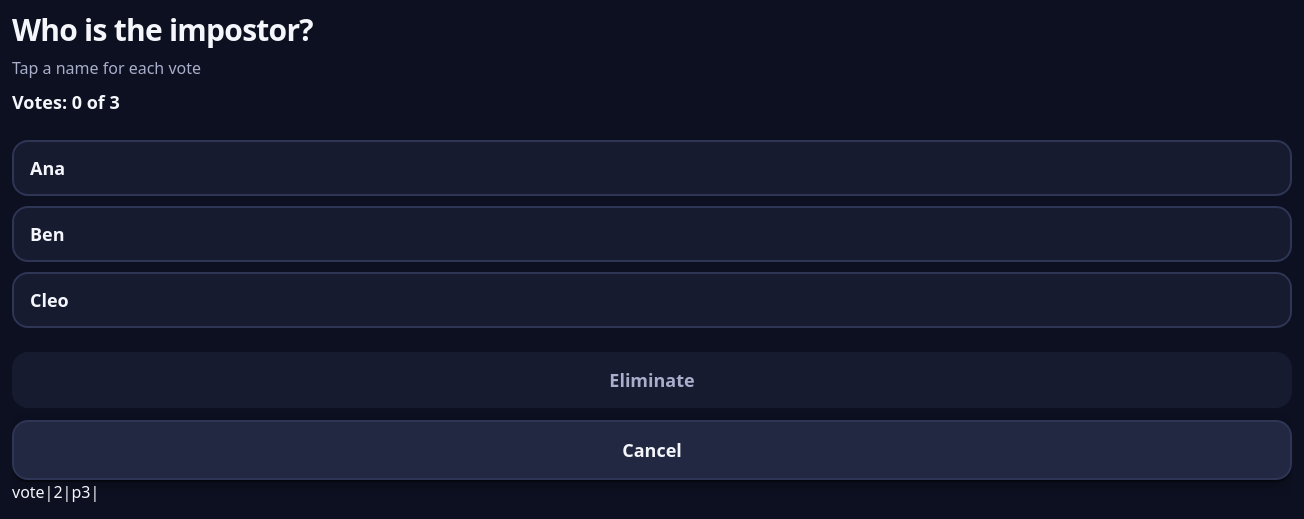
Test case: VoteScreen tally › eliminates the strict leader
Click the button "Ana".
click(48, 168)  # box [12,140,1292,196]
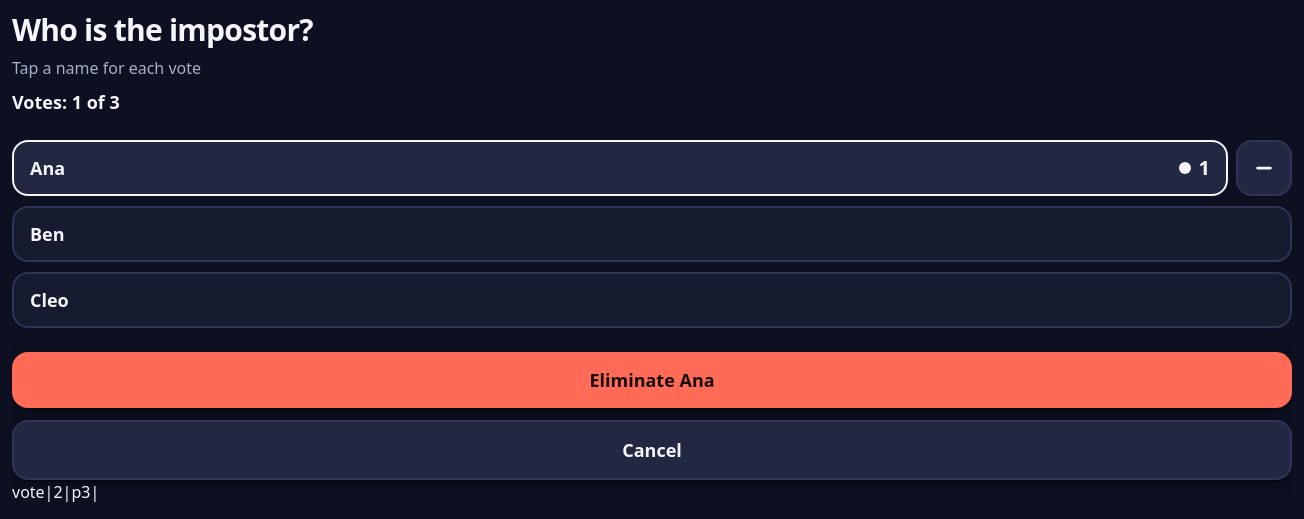
Click the button "Ana 1".
click(48, 168)  # box [12,140,1228,196]
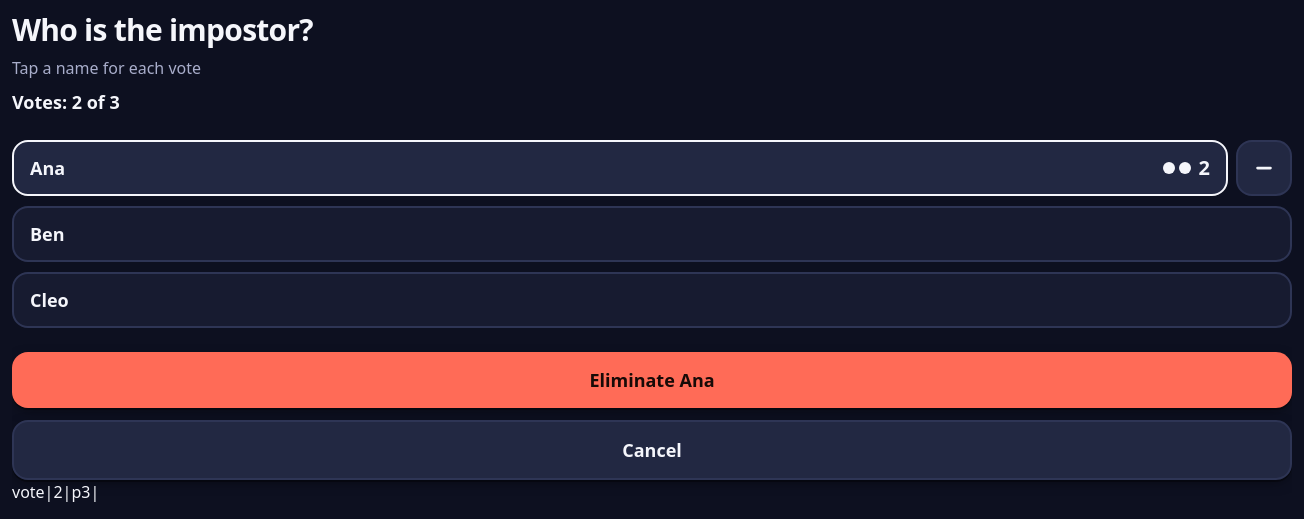
Click the button "Ben".
click(47, 234)  # box [12,206,1292,262]
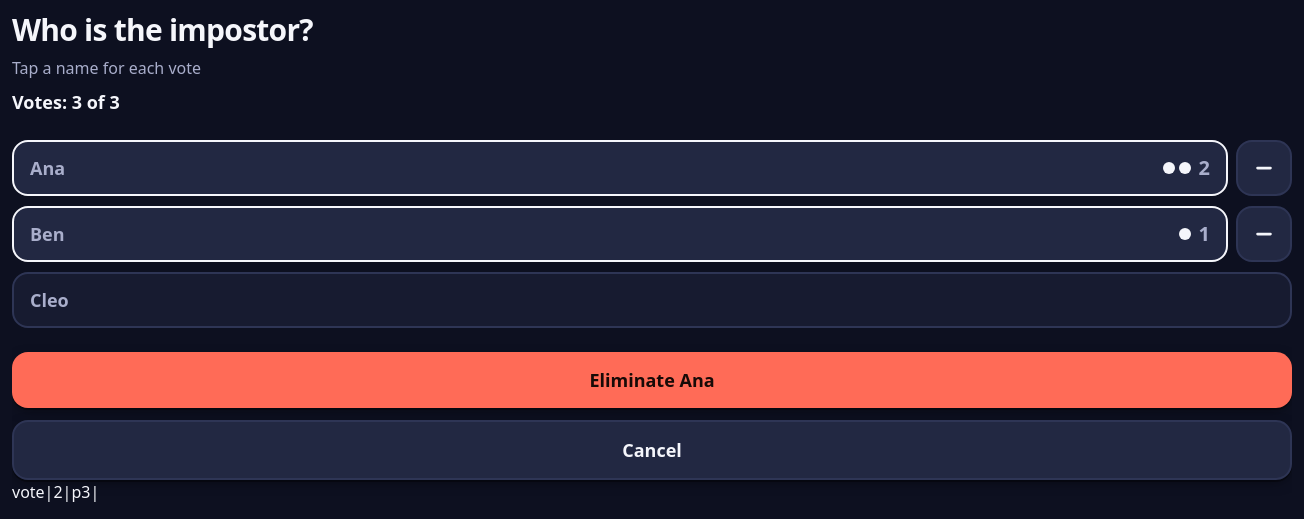
Expected: the text "Votes: 3 of 3" is shown, [12,90,120,114]
Click the button "Eliminate Ana".
click(652, 380)  # box [12,352,1292,408]
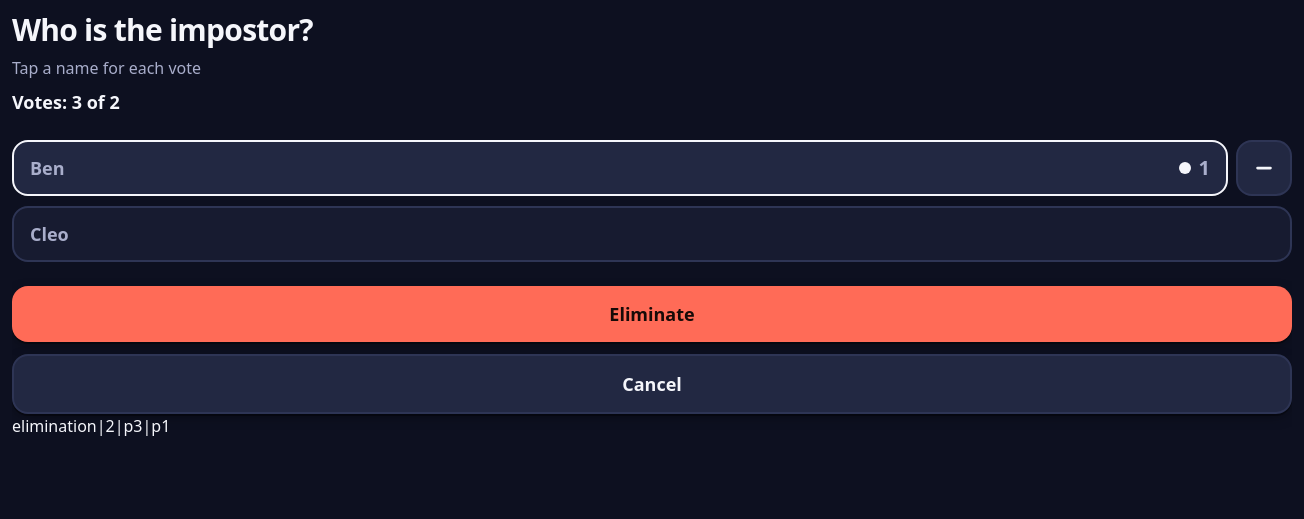
Expected: the text with test id "probe" reads "elimination|2|p3|p1", [12,415,170,437]
